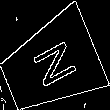N_SW: (24, 36, 78, 94)
